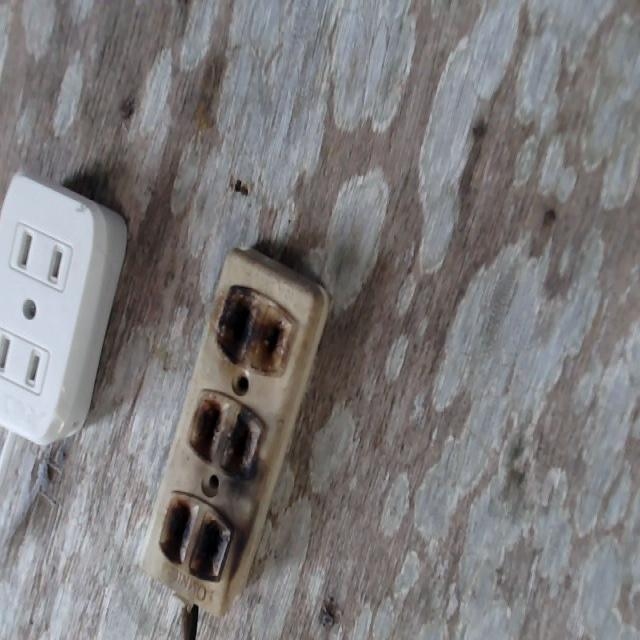-: (159, 281, 295, 580)
